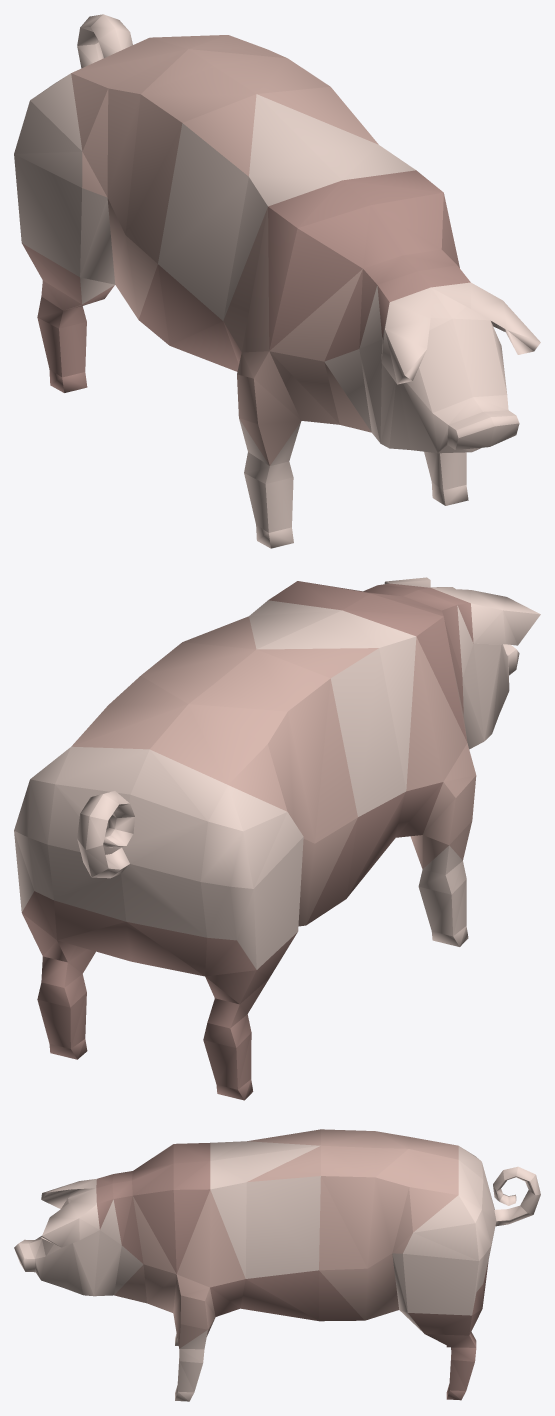
The model's file is porc.glb.
3 renders of one model, top to bottom at view 1: azimuth 30°, elevation 25°; view 2: azimuth 150°, elevation 25°; view 3: azimuth 270°, elevation 25°, orthographic. The views are drawn at different scales.
Visible parts, largest first — view 1: Pig; view 2: Pig; view 3: Pig.
Boxes of the visible parts, x1,y1,x2,y2 form: Pig: (14, 14, 540, 548); Pig: (14, 577, 540, 1100); Pig: (14, 1129, 540, 1401).
Bounding box in the file's own units: 3.31 × 4.59 × 9.78.
